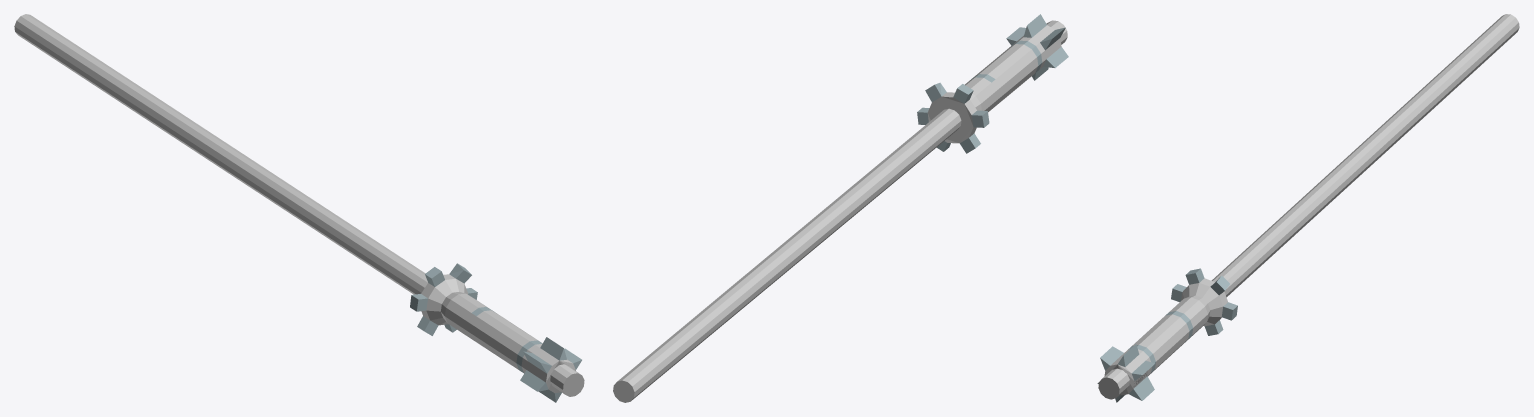
The model's file is Light saber model.obj.
The picture shows the model from 3 angles, left to right: view 1: azimuth 30°, elevation 25°; view 2: azimuth 150°, elevation 25°; view 3: azimuth 330°, elevation 25°; orthographic projection. The views are drawn at different scales.
Bounding box in the file's own units: 0.0888 × 0.0597 × 0.8084.
